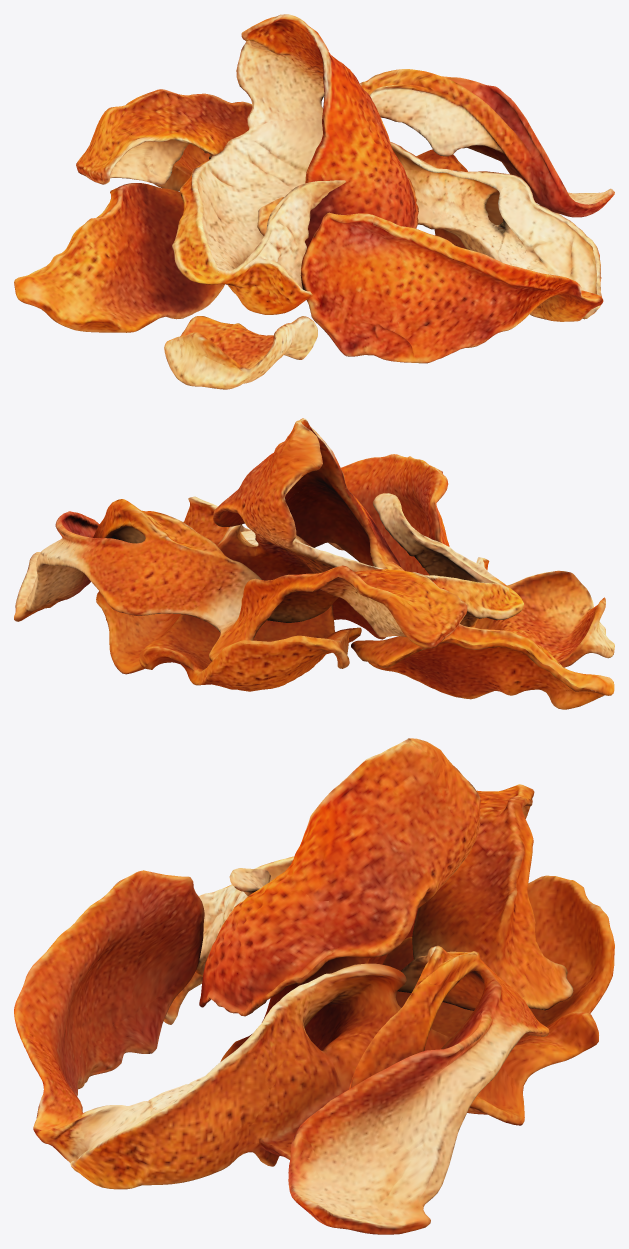
The model's file is lod_basic_shaded.fbx.
3 views of the same model, one above another, from view 1: azimuth 30°, elevation 25°; view 2: azimuth 150°, elevation 25°; view 3: azimuth 270°, elevation 25° (orthographic). The views are drawn at different scales.
Parts seen in each view (by area): view 1: model_LOD0; view 2: model_LOD0; view 3: model_LOD0.
Boxes of the visible parts, x1,y1,x2,y2 form: model_LOD0: [14, 14, 614, 389]; model_LOD0: [14, 418, 614, 709]; model_LOD0: [14, 738, 614, 1234].
Size of what is drawn, in the model's own units: 190 by 84.31 by 134.
